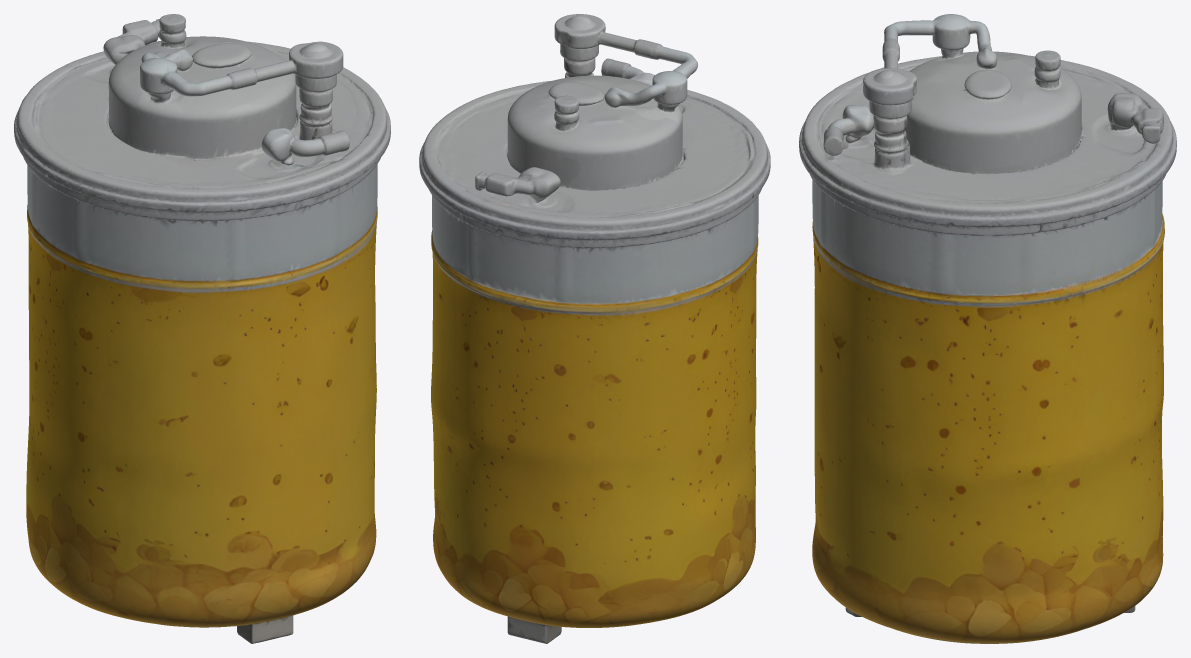
Rendered from hidrolización-opt.glb.
3 views of the same model, side by side, from view 1: azimuth 30°, elevation 25°; view 2: azimuth 150°, elevation 25°; view 3: azimuth 270°, elevation 25° (orthographic). The views are drawn at different scales.
Parts seen in each view (by area): view 1: tripo_node_55abc539-95d4-47af-b015-2bfcb064174c; view 2: tripo_node_55abc539-95d4-47af-b015-2bfcb064174c; view 3: tripo_node_55abc539-95d4-47af-b015-2bfcb064174c.
Boxes of the visible parts, bbox=[...] form: tripo_node_55abc539-95d4-47af-b015-2bfcb064174c: bbox=[14, 14, 390, 643]; tripo_node_55abc539-95d4-47af-b015-2bfcb064174c: bbox=[419, 14, 770, 643]; tripo_node_55abc539-95d4-47af-b015-2bfcb064174c: bbox=[799, 14, 1176, 643].
Bounding box in the file's own units: 0.6015 × 0.9999 × 0.6036.
Materials: 1 (1 with a texture image).
